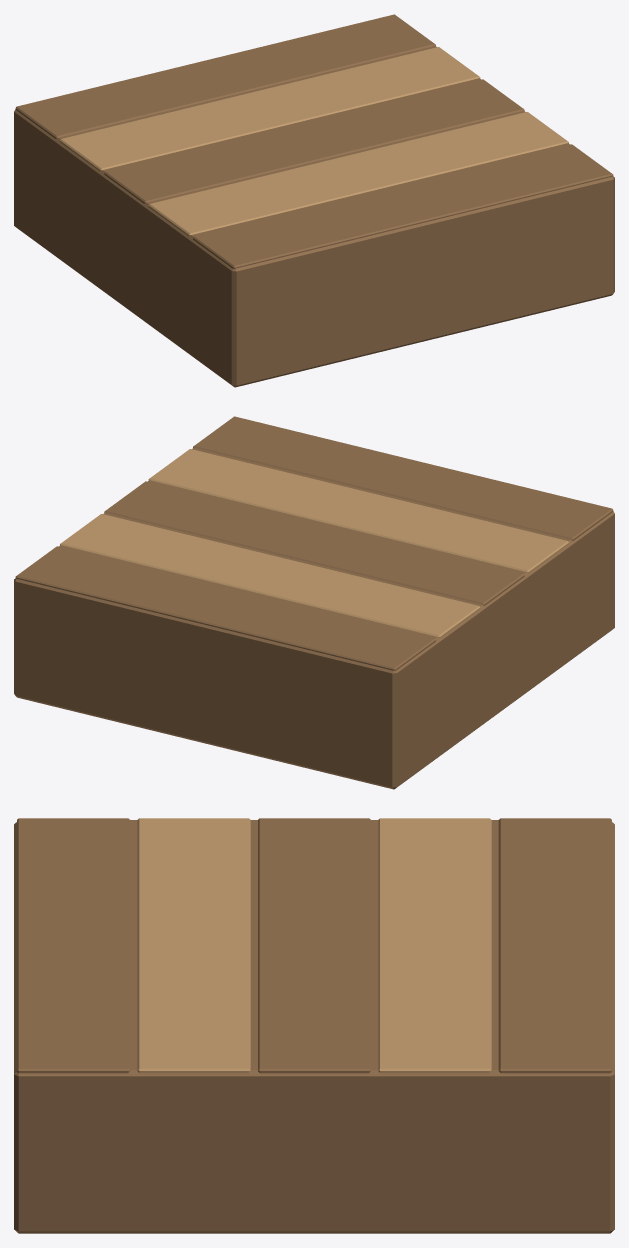
Rendered from wood-floor.glb.
The picture shows the model from 3 angles, top to bottom: view 1: azimuth 30°, elevation 25°; view 2: azimuth 150°, elevation 25°; view 3: azimuth 270°, elevation 25°; orthographic projection. The views are drawn at different scales.
Visible parts, largest first — view 1: Load bearing foundation.002, Timber floorboard.005; view 2: Load bearing foundation.002, Timber floorboard.005; view 3: Load bearing foundation.002, Timber floorboard.005.
Boxes of the visible parts, left/top/right/bottom form: Load bearing foundation.002: left=14, top=14, right=614, bottom=387; Timber floorboard.005: left=60, top=47, right=568, bottom=236; Load bearing foundation.002: left=14, top=416, right=614, bottom=789; Timber floorboard.005: left=60, top=449, right=568, bottom=638; Load bearing foundation.002: left=14, top=818, right=614, bottom=1233; Timber floorboard.005: left=137, top=818, right=491, bottom=1073.
Bounding box in the file's own units: 0.998 × 0.303 × 0.998.
